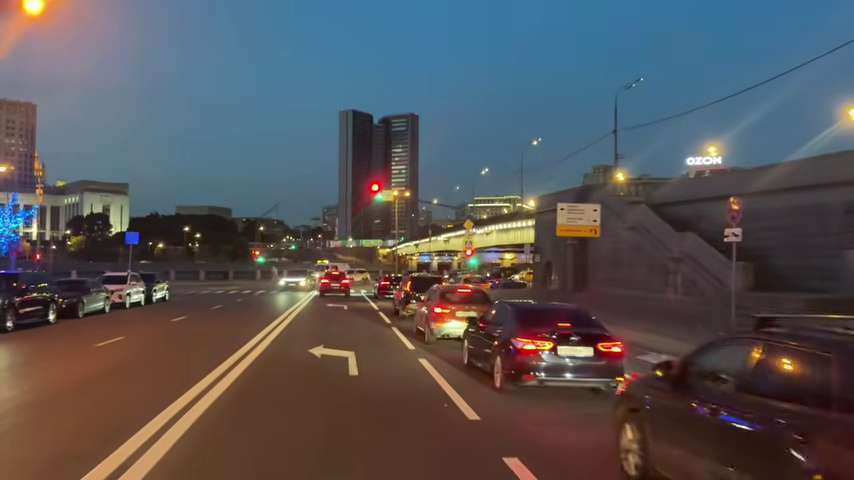acesa: (18, 0, 52, 23), (844, 104, 853, 129), (0, 160, 10, 177)
apagada: (627, 76, 643, 91)
